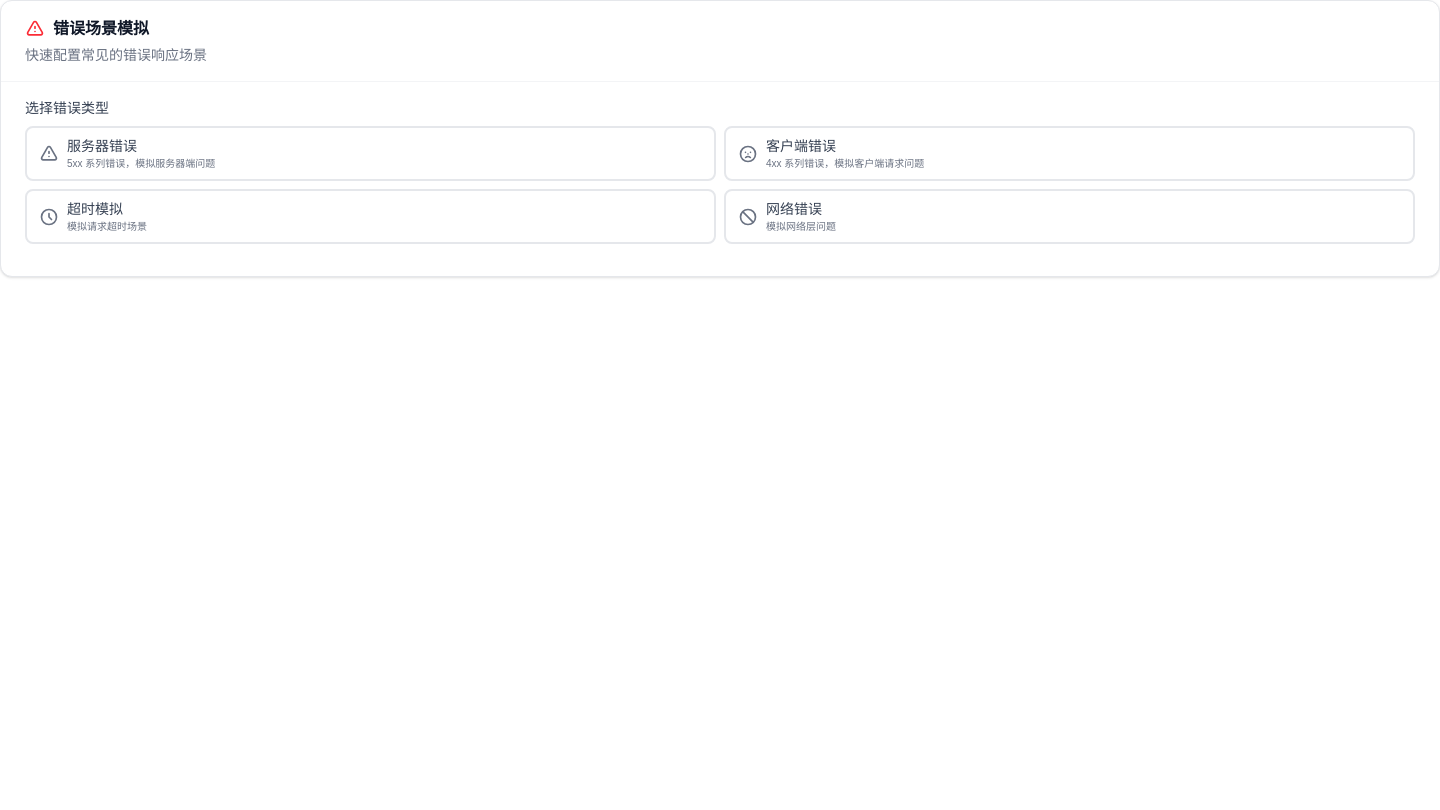
ErrorScenariosSelector › should reset selection when reset button is clicked
Step 1. Click the button "服务器错误 5xx 系列错误，模拟服务器端问题" → click(102, 146), box [25,126,716,181]
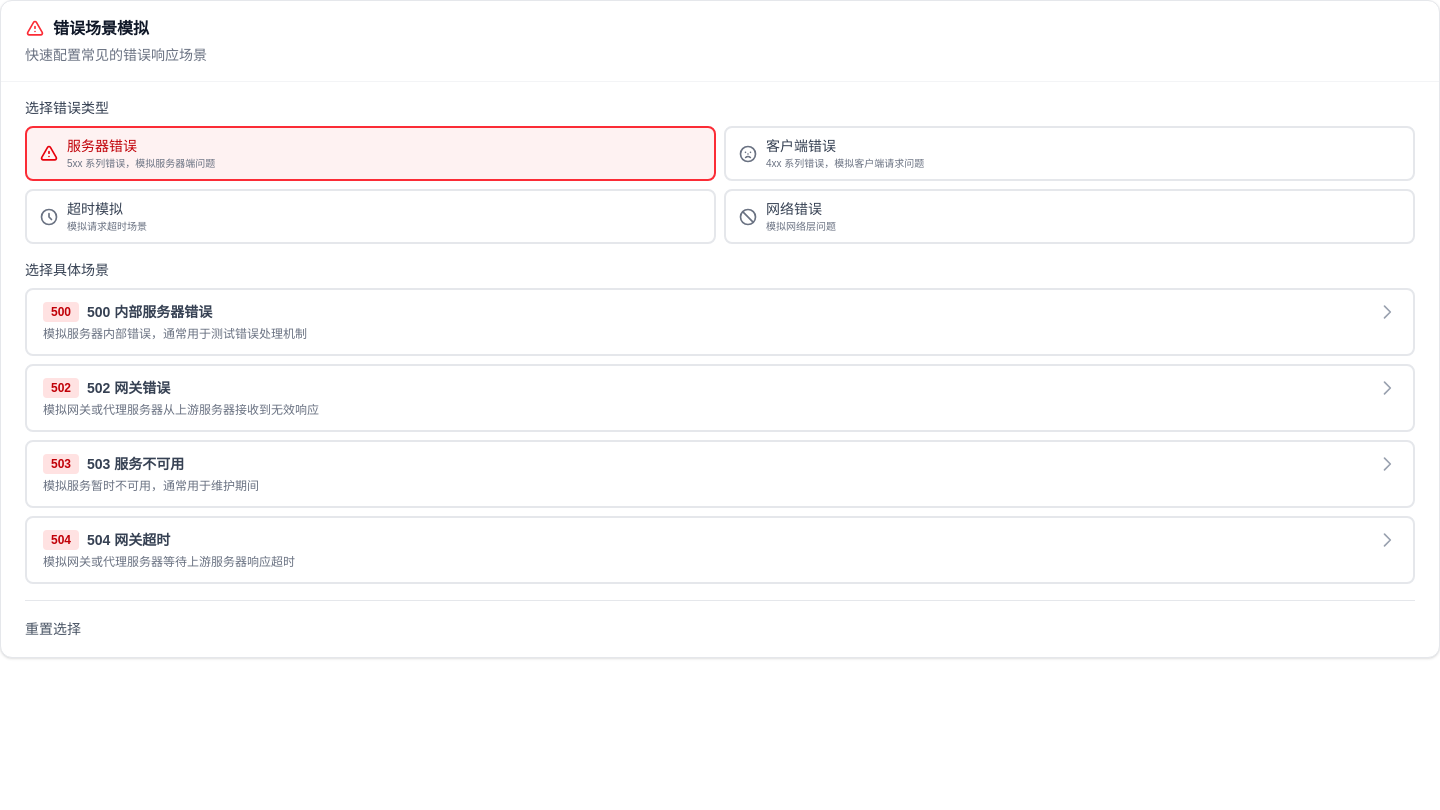
Step 2. Click the button "重置选择" → click(53, 629), box [25,619,81,639]
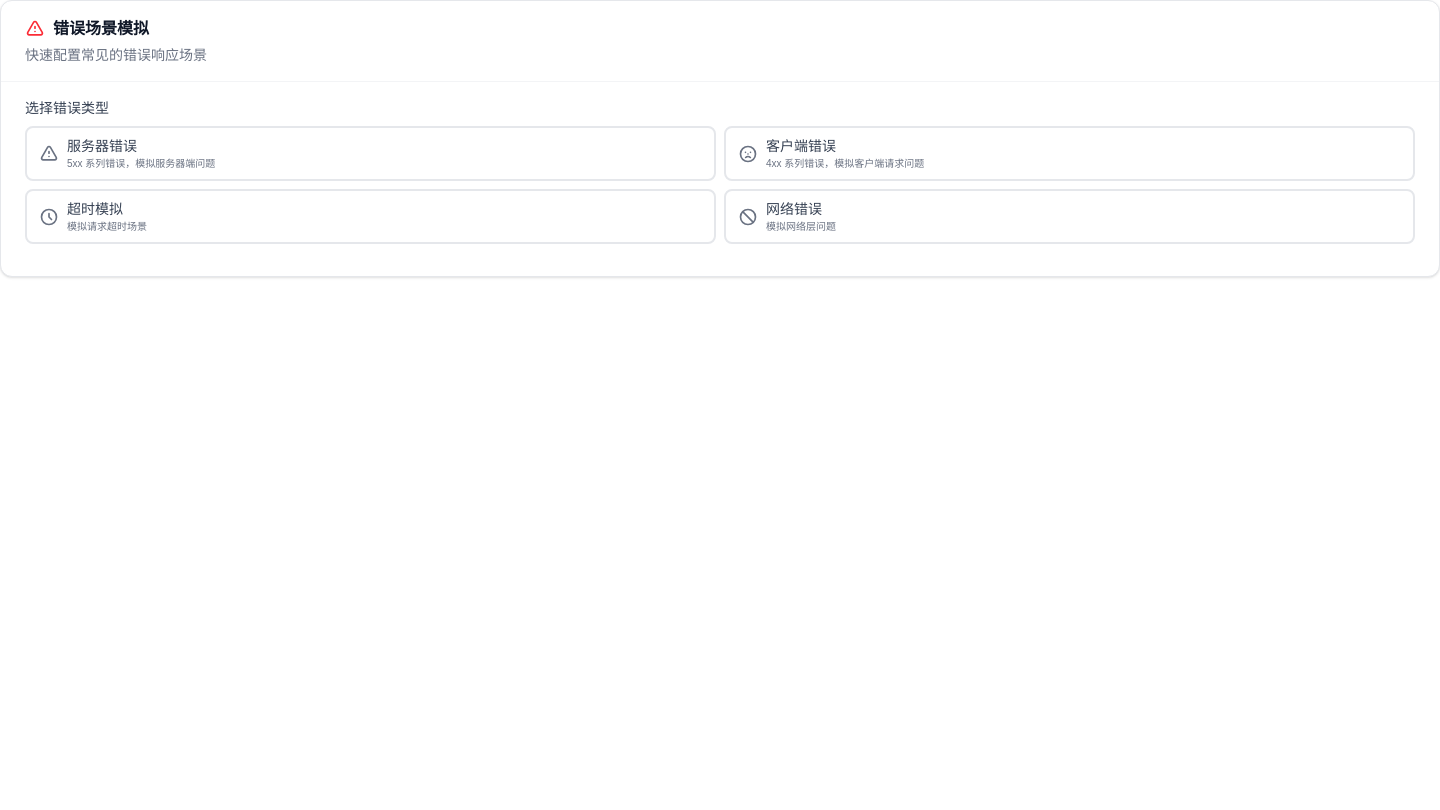
Now the button "500 内部服务器错误" is gone
